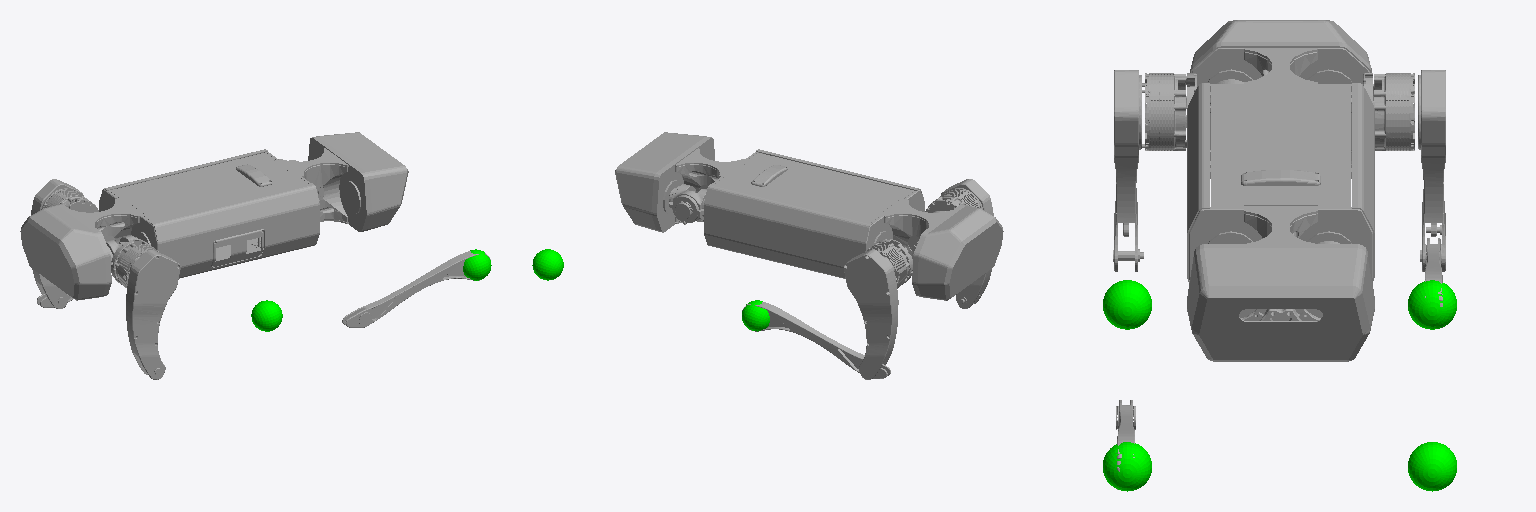
The robot description file, URDF, robot "mini_Point_foot_URDF0822":
<?xml version="1.0" encoding="utf-8"?>
<!-- This URDF was automatically created by SolidWorks to URDF Exporter! Originally created by Stephen Brawner (brawner@gmail.com)
     Commit Version: 1.6.0-4-g7f85cfe  Build Version: 1.6.7995.38578
     For more information, please see http://wiki.ros.org/sw_urdf_exporter -->
<robot
  name="mini_Point_foot_URDF0822">
  <link
    name="base">
    <inertial>
      <origin
        xyz="0.0038112 -0.00068182 -0.00047985"
        rpy="0 0 0" />
      <mass
        value="6.868" />
      <inertia
        ixx="0.022332"
        ixy="0.00081822"
        ixz="-0.0010119"
        iyy="0.22011"
        iyz="1.6276E-06"
        izz="0.22346" />
    </inertial>
    <visual>
      <origin
        xyz="0 0 0"
        rpy="0 0 0" />
      <geometry>
        <mesh
          filename="../meshes/base_link.STL" />
      </geometry>
      <material
        name="">
        <color
          rgba="0.69804 0.69804 0.69804 1" />
      </material>
    </visual>
    <collision>
      <origin
        xyz="0 0 0"
        rpy="0 0 0" />
      <geometry>
        <mesh
          filename="../meshes/base_link.STL" />
      </geometry>
    </collision>
  </link>
  <link
    name="FR_hip">
    <inertial>
      <origin
        xyz="-1.9909E-09 -0.0061068 -2.5051E-05"
        rpy="0 0 0" />
      <mass
        value="0.26171" />
      <inertia
        ixx="9.1238E-05"
        ixy="8.3672E-10"
        ixz="-3.1382E-10"
        iyy="0.00014078"
        iyz="-1.5484E-07"
        izz="0.0001612" />
    </inertial>
    <visual>
      <origin
        xyz="0 0 0"
        rpy="0 0 0" />
      <geometry>
        <mesh
          filename="../meshes/RF_abad_Link.STL" />
      </geometry>
      <material
        name="">
        <color
          rgba="0.69804 0.69804 0.69804 1" />
      </material>
    </visual>
    <collision>
      <origin
        xyz="0 0 0"
        rpy="0 0 0" />
      <geometry>
        <mesh
          filename="../meshes/RF_abad_Link.STL" />
      </geometry>
    </collision>
  </link>
  <joint
    name="FR_hip_joint"
    type="revolute">
    <origin
      xyz="0.192 -0.05 0"
      rpy="0 0 0" />
    <parent
      link="base" />
    <child
      link="FR_hip" />
    <axis
      xyz="1 0 0" />
    <limit
      lower="-1.571"
      upper="1.571"
      effort="30"
      velocity="25" />
  </joint>
  <link
    name="FR_thigh">
    <inertial>
      <origin
        xyz="-0.0045557 -0.020225 -0.032251"
        rpy="0 0 0" />
      <mass
        value="0.82601" />
      <inertia
        ixx="0.0020172"
        ixy="-7.2363E-07"
        ixz="-7.5306E-05"
        iyy="0.0022201"
        iyz="-1.6661E-05"
        izz="0.00054472" />
    </inertial>
    <visual>
      <origin
        xyz="0 0 0"
        rpy="0 0 0" />
      <geometry>
        <mesh
          filename="../meshes/RF_thigh_Link.STL" />
      </geometry>
      <material
        name="">
        <color
          rgba="0.69804 0.69804 0.69804 1" />
      </material>
    </visual>
    <collision>
      <origin
        xyz="0 0 0"
        rpy="0 0 0" />
      <geometry>
        <mesh
          filename="../meshes/RF_thigh_Link.STL" />
      </geometry>
    </collision>
  </link>
  <joint
    name="FR_thigh_joint"
    type="revolute">
    <origin
      xyz="0 -0.0599 0"
      rpy="0 0 0" />
    <parent
      link="FR_hip" />
    <child
      link="FR_thigh" />
    <axis
      xyz="0 1 0" />
    <limit
      lower="-2.443"
      upper="2.443"
      effort="30"
      velocity="25" />
  </joint>
  <link
    name="FR_calf">
    <inertial>
      <origin
        xyz="0.0094151 -0.0015964 -0.12355"
        rpy="0 0 0" />
      <mass
        value="0.15914" />
      <inertia
        ixx="0.0012213"
        ixy="7.3267E-07"
        ixz="5.4123E-05"
        iyy="0.0012414"
        iyz="8.0193E-07"
        izz="2.6654E-05" />
    </inertial>
    <visual>
      <origin
        xyz="0 0 0"
        rpy="0 0 0" />
      <geometry>
        <mesh
          filename="../meshes/RF_shank_Link.STL" />
      </geometry>
      <material
        name="">
        <color
          rgba="0.69804 0.69804 0.69804 1" />
      </material>
    </visual>
    <collision>
      <origin
        xyz="0 0 0"
        rpy="0 0 0" />
      <geometry>
        <mesh
          filename="../meshes/RF_shank_Link.STL" />
      </geometry>
    </collision>
  </link>
  <joint
    name="FR_calf_joint"
    type="revolute">
    <origin
      xyz="0 -0.0441 -0.159"
      rpy="0 0 0" />
    <parent
      link="FR_thigh" />
    <child
      link="FR_calf" />
    <axis
      xyz="0 1 0" />
    <limit
      lower="-2.705"
      upper="-0.75"
      effort="45"
      velocity="16" />
  </joint>

  <!-- 右前足 - 基于小腿末端位置（惯性原点z=-0.12355）设置 -->
  <joint name="FR_foot_fixed" type="fixed" dont_collapse="true">
    <origin rpy="0 0 0" xyz="0.01 0.0 -0.213"/>
    <parent link="FR_calf"/>
    <child link="FR_foot"/>
  </joint>
  <link name="FR_foot">
    <visual>
      <origin rpy="0 0 0" xyz="0 0 0"/>
      <geometry>
        <sphere radius="0.025"/>
      </geometry>
      <material name="green">
        <color rgba="0 1 0 1"/>
      </material>
    </visual>
    <collision>
      <origin rpy="0 0 0" xyz="0 0 0"/>
      <geometry>
        <sphere radius="0.025"/>
      </geometry>
    </collision>
    <inertial>
      <mass value="0.001"/>
      <inertia ixx="1.6854e-05" ixy="0.0" ixz="0.0" iyy="1.6854e-05" iyz="0.0" izz="1.6854e-05"/>
    </inertial>
  </link>

  <link
    name="FL_hip">
    <inertial>
      <origin
        xyz="9.7625E-08 0.0061068 -2.5092E-05"
        rpy="0 0 0" />
      <mass
        value="0.26171" />
      <inertia
        ixx="9.1239E-05"
        ixy="-1.3507E-10"
        ixz="3.0716E-10"
        iyy="0.00014078"
        iyz="1.5652E-07"
        izz="0.0001612" />
    </inertial>
    <visual>
      <origin
        xyz="0 0 0"
        rpy="0 0 0" />
      <geometry>
        <mesh
          filename="../meshes/LF_abad_Link.STL" />
      </geometry>
      <material
        name="">
        <color
          rgba="0.69804 0.69804 0.69804 1" />
      </material>
    </visual>
    <collision>
      <origin
        xyz="0 0 0"
        rpy="0 0 0" />
      <geometry>
        <mesh
          filename="../meshes/LF_abad_Link.STL" />
      </geometry>
    </collision>
  </link>
  <joint
    name="FL_hip_joint"
    type="revolute">
    <origin
      xyz="0.192 0.048 0"
      rpy="0 0 0" />
    <parent
      link="base" />
    <child
      link="FL_hip" />
    <axis
      xyz="1 0 0" />
    <limit
      lower="-1.571"
      upper="1.571"
      effort="30"
      velocity="25" />
  </joint>
  <link
    name="FL_thigh">
    <inertial>
      <origin
        xyz="-0.004812 0.020471 -0.032734"
        rpy="0 0 0" />
      <mass
        value="0.82106" />
      <inertia
        ixx="0.0019464"
        ixy="2.2103E-07"
        ixz="-7.9264E-05"
        iyy="0.0021509"
        iyz="1.2215E-05"
        izz="0.00053812" />
    </inertial>
    <visual>
      <origin
        xyz="0 0 0"
        rpy="0 0 0" />
      <geometry>
        <mesh
          filename="../meshes/LF_thigh_Link.STL" />
      </geometry>
      <material
        name="">
        <color
          rgba="0.69804 0.69804 0.69804 1" />
      </material>
    </visual>
    <collision>
      <origin
        xyz="0 0 0"
        rpy="0 0 0" />
      <geometry>
        <mesh
          filename="../meshes/LF_thigh_Link.STL" />
      </geometry>
    </collision>
  </link>
  <joint
    name="FL_thigh_joint"
    type="revolute">
    <origin
      xyz="0 0.0599 0"
      rpy="0 0 0" />
    <parent
      link="FL_hip" />
    <child
      link="FL_thigh" />
    <axis
      xyz="0 1 0" />
    <limit
      lower="-2.443"
      upper="2.443"
      effort="30"
      velocity="25" />
  </joint>
  <link
    name="FL_calf">
    <inertial>
      <origin
        xyz="0.0094038 0.0015961 -0.12354"
        rpy="0 0 0" />
      <mass
        value="0.15915" />
      <inertia
        ixx="0.0012212"
        ixy="-7.334E-07"
        ixz="5.3956E-05"
        iyy="0.0012413"
        iyz="-8.0296E-07"
        izz="2.6664E-05" />
    </inertial>
    <visual>
      <origin
        xyz="0 0 0"
        rpy="0 0 0" />
      <geometry>
        <mesh
          filename="../meshes/LF_shank_Link.STL" />
      </geometry>
      <material
        name="">
        <color
          rgba="0.69804 0.69804 0.69804 1" />
      </material>
    </visual>
    <collision>
      <origin
        xyz="0 0 0"
        rpy="0 0 0" />
      <geometry>
        <mesh
          filename="../meshes/LF_shank_Link.STL" />
      </geometry>
    </collision>
  </link>
  <joint
    name="FL_calf_joint"
    type="revolute">
    <origin
      xyz="0 0.0441 -0.159"
      rpy="0 0 0" />
    <parent
      link="FL_thigh" />
    <child
      link="FL_calf" />
    <axis
      xyz="0 1 0" />
    <limit
      lower="-2.705"
      upper="-0.75"
      effort="45"
      velocity="16" />
  </joint>

  <!-- 左前足 - 与右前足对称设置 -->
  <joint name="FL_foot_fixed" type="fixed" dont_collapse="true">
    <origin rpy="0 0 0" xyz="0.01 0.0 -0.213"/>
    <parent link="FL_calf"/>
    <child link="FL_foot"/>
  </joint>
  <link name="FL_foot">
    <visual>
      <origin rpy="0 0 0" xyz="0 0 0"/>
      <geometry>
        <sphere radius="0.025"/>
      </geometry>
      <material name="green">
        <color rgba="0 1 0 1"/>
      </material>
    </visual>
    <collision>
      <origin rpy="0 0 0" xyz="0 0 0"/>
      <geometry>
        <sphere radius="0.025"/>
      </geometry>
    </collision>
    <inertial>
      <mass value="0.001"/>
      <inertia ixx="1.6854e-05" ixy="0.0" ixz="0.0" iyy="1.6854e-05" iyz="0.0" izz="1.6854e-05"/>
    </inertial>
  </link>

  <link
    name="RR_hip">
    <inertial>
      <origin
        xyz="-1.9909E-09 -0.0061068 -2.5051E-05"
        rpy="0 0 0" />
      <mass
        value="0.26171" />
      <inertia
        ixx="9.1238E-05"
        ixy="8.3672E-10"
        ixz="-3.1382E-10"
        iyy="0.00014078"
        iyz="-1.5484E-07"
        izz="0.0001612" />
    </inertial>
    <visual>
      <origin
        xyz="0 0 0"
        rpy="0 0 0" />
      <geometry>
        <mesh
          filename="../meshes/RH_abad_Link.STL" />
      </geometry>
      <material
        name="">
        <color
          rgba="0.69804 0.69804 0.69804 1" />
      </material>
    </visual>
    <collision>
      <origin
        xyz="0 0 0"
        rpy="0 0 0" />
      <geometry>
        <mesh
          filename="../meshes/RH_abad_Link.STL" />
      </geometry>
    </collision>
  </link>
  <joint
    name="RR_hip_joint"
    type="revolute">
    <origin
      xyz="-0.192 -0.05 0"
      rpy="0 0 0" />
    <parent
      link="base" />
    <child
      link="RR_hip" />
    <axis
      xyz="1 0 0" />
    <limit
      lower="-1.571"
      upper="1.571"
      effort="30"
      velocity="25" />
  </joint>
  <link
    name="RR_thigh">
    <inertial>
      <origin
        xyz="-0.0045557 -0.020225 -0.032251"
        rpy="0 0 0" />
      <mass
        value="0.82601" />
      <inertia
        ixx="0.0020172"
        ixy="-7.2363E-07"
        ixz="-7.5306E-05"
        iyy="0.0022201"
        iyz="-1.6661E-05"
        izz="0.00054472" />
    </inertial>
    <visual>
      <origin
        xyz="0 0 0"
        rpy="0 0 0" />
      <geometry>
        <mesh
          filename="../meshes/RH_thigh_Link.STL" />
      </geometry>
      <material
        name="">
        <color
          rgba="0.69804 0.69804 0.69804 1" />
      </material>
    </visual>
    <collision>
      <origin
        xyz="0 0 0"
        rpy="0 0 0" />
      <geometry>
        <mesh
          filename="../meshes/RH_thigh_Link.STL" />
      </geometry>
    </collision>
  </link>
  <joint
    name="RR_thigh_joint"
    type="revolute">
    <origin
      xyz="0 -0.0599 0"
      rpy="0 0 0" />
    <parent
      link="RR_hip" />
    <child
      link="RR_thigh" />
    <axis
      xyz="0 1 0" />
    <limit
      lower="-2.443"
      upper="2.443"
      effort="30"
      velocity="25" />
  </joint>
  <link
    name="RR_calf">
    <inertial>
      <origin
        xyz="0.0094151 -0.0015964 -0.12355"
        rpy="0 0 0" />
      <mass
        value="0.15914" />
      <inertia
        ixx="0.0012213"
        ixy="7.3267E-07"
        ixz="5.4123E-05"
        iyy="0.0012414"
        iyz="8.0193E-07"
        izz="2.6654E-05" />
    </inertial>
    <visual>
      <origin
        xyz="0 0 0"
        rpy="0 0 0" />
      <geometry>
        <mesh
          filename="../meshes/RH_shank_Link.STL" />
      </geometry>
      <material
        name="">
        <color
          rgba="0.69804 0.69804 0.69804 1" />
      </material>
    </visual>
    <collision>
      <origin
        xyz="0 0 0"
        rpy="0 0 0" />
      <geometry>
        <mesh
          filename="../meshes/RH_shank_Link.STL" />
      </geometry>
    </collision>
  </link>
  <joint
    name="RR_calf_joint"
    type="revolute">
    <origin
      xyz="0 -0.0441 -0.159"
      rpy="0 0 0" />
    <parent
      link="RR_thigh" />
    <child
      link="RR_calf" />
    <axis
      xyz="0 1 0" />
    <limit
      lower="-2.705"
      upper="-0.75"
      effort="45"
      velocity="16" />
  </joint>

  <!-- 右后足 - 保持与前足相同的小腿末端偏移量 -->
  <joint name="RR_foot_fixed" type="fixed" dont_collapse="true">
    <origin rpy="0 0 0" xyz="0.01 0.0 -0.213"/>
    <parent link="RR_calf"/>
    <child link="RR_foot"/>
  </joint>
  <link name="RR_foot">
    <visual>
      <origin rpy="0 0 0" xyz="0 0 0"/>
      <geometry>
        <sphere radius="0.025"/>
      </geometry>
      <material name="green">
        <color rgba="0 1 0 1"/>
      </material>
    </visual>
    <collision>
      <origin rpy="0 0 0" xyz="0 0 0"/>
      <geometry>
        <sphere radius="0.025"/>
      </geometry>
    </collision>
    <inertial>
      <mass value="0.001"/>
      <inertia ixx="1.6854e-05" ixy="0.0" ixz="0.0" iyy="1.6854e-05" iyz="0.0" izz="1.6854e-05"/>
    </inertial>
  </link>

  <link
    name="RL_hip">
    <inertial>
      <origin
        xyz="9.7625E-08 0.0061068 -2.5092E-05"
        rpy="0 0 0" />
      <mass
        value="0.26171" />
      <inertia
        ixx="9.1239E-05"
        ixy="-1.3507E-10"
        ixz="3.0716E-10"
        iyy="0.00014078"
        iyz="1.5652E-07"
        izz="0.0001612" />
    </inertial>
    <visual>
      <origin
        xyz="0 0 0"
        rpy="0 0 0" />
      <geometry>
        <mesh
          filename="../meshes/LH_abad_Link.STL" />
      </geometry>
      <material
        name="">
        <color
          rgba="0.69804 0.69804 0.69804 1" />
      </material>
    </visual>
    <collision>
      <origin
        xyz="0 0 0"
        rpy="0 0 0" />
      <geometry>
        <mesh
          filename="../meshes/LH_abad_Link.STL" />
      </geometry>
    </collision>
  </link>
  <joint
    name="RL_hip_joint"
    type="revolute">
    <origin
      xyz="-0.192 0.048 0"
      rpy="0 0 0" />
    <parent
      link="base" />
    <child
      link="RL_hip" />
    <axis
      xyz="1 0 0" />
    <limit
      lower="-1.571"
      upper="1.571"
      effort="30"
      velocity="25" />
  </joint>
  <link
    name="RL_thigh">
    <inertial>
      <origin
        xyz="-0.004812 0.020471 -0.032734"
        rpy="0 0 0" />
      <mass
        value="0.82106" />
      <inertia
        ixx="0.0019464"
        ixy="2.2103E-07"
        ixz="-7.9264E-05"
        iyy="0.0021509"
        iyz="1.2215E-05"
        izz="0.00053812" />
    </inertial>
    <visual>
      <origin
        xyz="0 0 0"
        rpy="0 0 0" />
      <geometry>
        <mesh
          filename="../meshes/LH_thigh_Link.STL" />
      </geometry>
      <material
        name="">
        <color
          rgba="0.69804 0.69804 0.69804 1" />
      </material>
    </visual>
    <collision>
      <origin
        xyz="0 0 0"
        rpy="0 0 0" />
      <geometry>
        <mesh
          filename="../meshes/LH_thigh_Link.STL" />
      </geometry>
    </collision>
  </link>
  <joint
    name="RL_thigh_joint"
    type="revolute">
    <origin
      xyz="0 0.0599 0"
      rpy="0 0 0" />
    <parent
      link="RL_hip" />
    <child
      link="RL_thigh" />
    <axis
      xyz="0 1 0" />
    <limit
      lower="-2.443"
      upper="2.443"
      effort="30"
      velocity="25" />
  </joint>
  <link
    name="RL_calf">
    <inertial>
      <origin
        xyz="0.0094038 0.0015961 -0.12354"
        rpy="0 0 0" />
      <mass
        value="0.15915" />
      <inertia
        ixx="0.0012212"
        ixy="-7.334E-07"
        ixz="5.3956E-05"
        iyy="0.0012413"
        iyz="-8.0296E-07"
        izz="2.6664E-05" />
    </inertial>
    <visual>
      <origin
        xyz="0 0 0"
        rpy="0 0 0" />
      <geometry>
        <mesh
          filename="../meshes/LH_shank_Link.STL" />
      </geometry>
      <material
        name="">
        <color
          rgba="0.69804 0.69804 0.69804 1" />
      </material>
    </visual>
    <collision>
      <origin
        xyz="0 0 0"
        rpy="0 0 0" />
      <geometry>
        <mesh
          filename="../meshes/LH_shank_Link.STL" />
      </geometry>
    </collision>
  </link>
  <joint
    name="RL_calf_joint"
    type="revolute">
    <origin
      xyz="0 0.0441 -0.159"
      rpy="0 0 0" />
    <parent
      link="RL_thigh" />
    <child
      link="RL_calf" />
    <axis
      xyz="0 1 0" />
    <limit
      lower="-2.705"
      upper="-0.75"
      effort="45"
      velocity="16" />
  </joint>

  <!-- 左后足 - 保持四足位置一致性 -->
  <joint name="RL_foot_fixed" type="fixed" dont_collapse="true">
    <origin rpy="0 0 0" xyz="0.01 0.0 -0.213"/>
    <parent link="RL_calf"/>
    <child link="RL_foot"/>
  </joint>
  <link name="RL_foot">
    <visual>
      <origin rpy="0 0 0" xyz="0 0 0"/>
      <geometry>
        <sphere radius="0.025"/>
      </geometry>
      <material name="green">
        <color rgba="0 1 0 1"/>
      </material>
    </visual>
    <collision>
      <origin rpy="0 0 0" xyz="0 0 0"/>
      <geometry>
        <sphere radius="0.025"/>
      </geometry>
    </collision>
    <inertial>
      <mass value="0.001"/>
      <inertia ixx="1.6854e-05" ixy="0.0" ixz="0.0" iyy="1.6854e-05" iyz="0.0" izz="1.6854e-05"/>
    </inertial>
  </link>
</robot>

--- Facts derived from the render (not from the file) ---
3 views of the same robot in one strip: view 1: azimuth 30°, elevation 25°; view 2: azimuth 150°, elevation 25°; view 3: azimuth 270°, elevation 25° (orthographic).
Robot: mini_Point_foot_URDF0822 — 17 links, 16 joints (12 revolute, 4 fixed); root link base; default pose: all joints at 0 but 4 set to mid-range because 0 is outside their limits (FR_calf_joint = -1.73, FL_calf_joint = -1.73, RR_calf_joint = -1.73, RL_calf_joint = -1.73).
Visible links, largest first — view 1: base, RR_thigh, FR_calf, RL_thigh, RR_foot, FR_foot; view 2: base, RL_thigh, RR_thigh, RL_calf, FL_hip, FL_foot, RL_foot; view 3: base, RR_thigh, RL_thigh, RR_foot, FL_foot, RL_foot, FR_foot, FR_calf, RL_calf.
Boxes of the visible links, x1,y1,x2,y2 form: base: (20, 132, 408, 300); RR_thigh: (111, 239, 180, 379); FR_calf: (342, 251, 490, 327); RL_thigh: (31, 179, 98, 308); RR_foot: (251, 300, 282, 331); FR_foot: (463, 249, 491, 280); base: (615, 132, 1003, 300); RL_thigh: (844, 239, 912, 379); RR_thigh: (925, 179, 993, 308); RL_calf: (742, 302, 890, 378); FL_hip: (669, 184, 706, 224); FL_foot: (532, 249, 563, 280); RL_foot: (742, 300, 769, 331); base: (1187, 20, 1374, 361); RR_thigh: (1113, 70, 1196, 271); RL_thigh: (1363, 70, 1445, 271); RR_foot: (1103, 280, 1151, 329); FL_foot: (1408, 442, 1456, 491); RL_foot: (1408, 280, 1456, 329); FR_foot: (1103, 442, 1151, 491); FR_calf: (1116, 400, 1135, 489); RL_calf: (1425, 238, 1442, 327).
Bounding box of the posed robot: 0.7323 × 0.356 × 0.236 m (x, y, z).
Meshes: 13 distinct files referenced, 7 mesh visuals loaded (7 binary STL); not drawn: 6 (reference not matched to a file when rendering).
